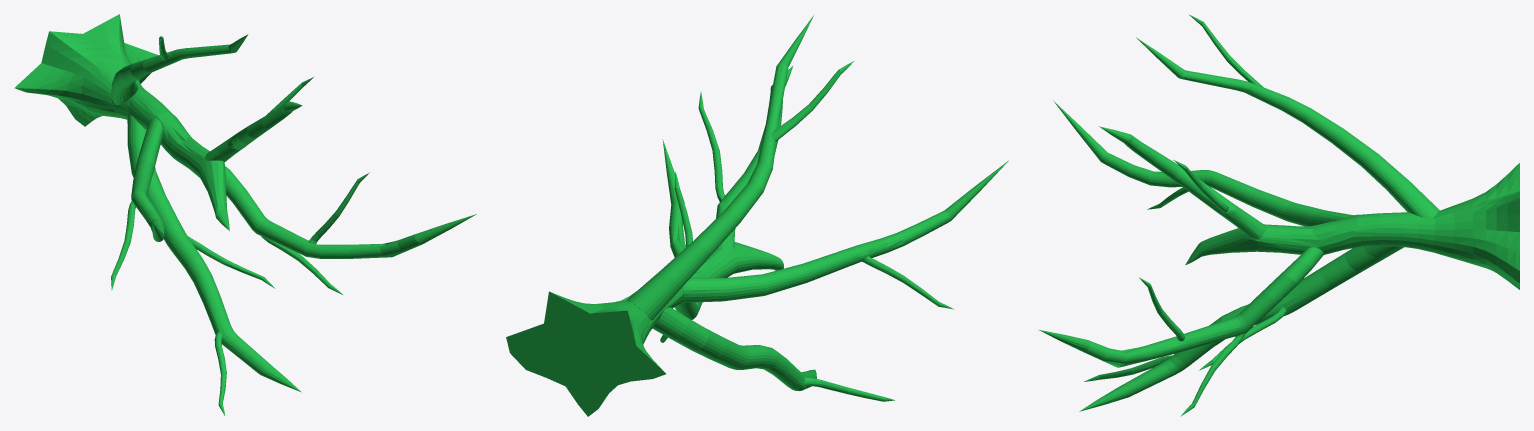
Rendered from spookytree.obj.
3 views of the same model, side by side, from view 1: azimuth 30°, elevation 25°; view 2: azimuth 150°, elevation 25°; view 3: azimuth 270°, elevation 25° (orthographic). The views are drawn at different scales.
Parts seen in each view (by area): view 1: Object.1; view 2: Object.1; view 3: Object.1.
Part boxes in pixels (x1=…): Object.1: x1=14, y1=14, x2=476, y2=415; Object.1: x1=506, y1=15, x2=1008, y2=416; Object.1: x1=1038, y1=14, x2=1519, y2=416.
Bounding box in the file's own units: 94.33 × 99.94 × 118.
